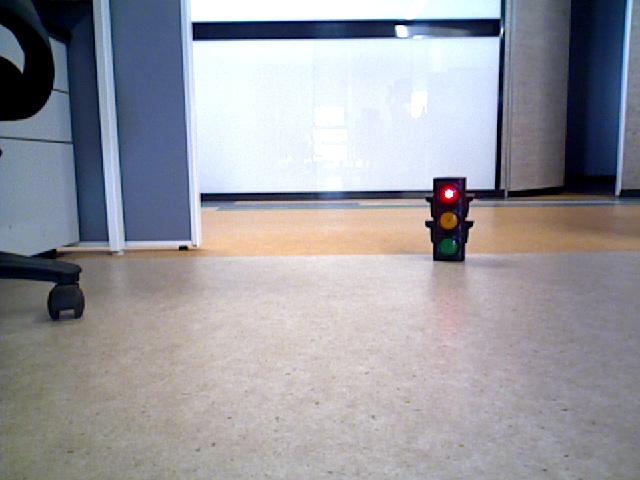red: (430, 182, 462, 256)
